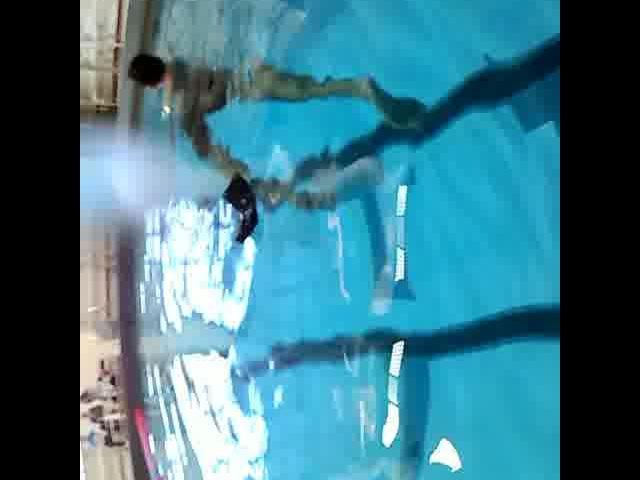CamMount: (218, 166, 266, 250)
